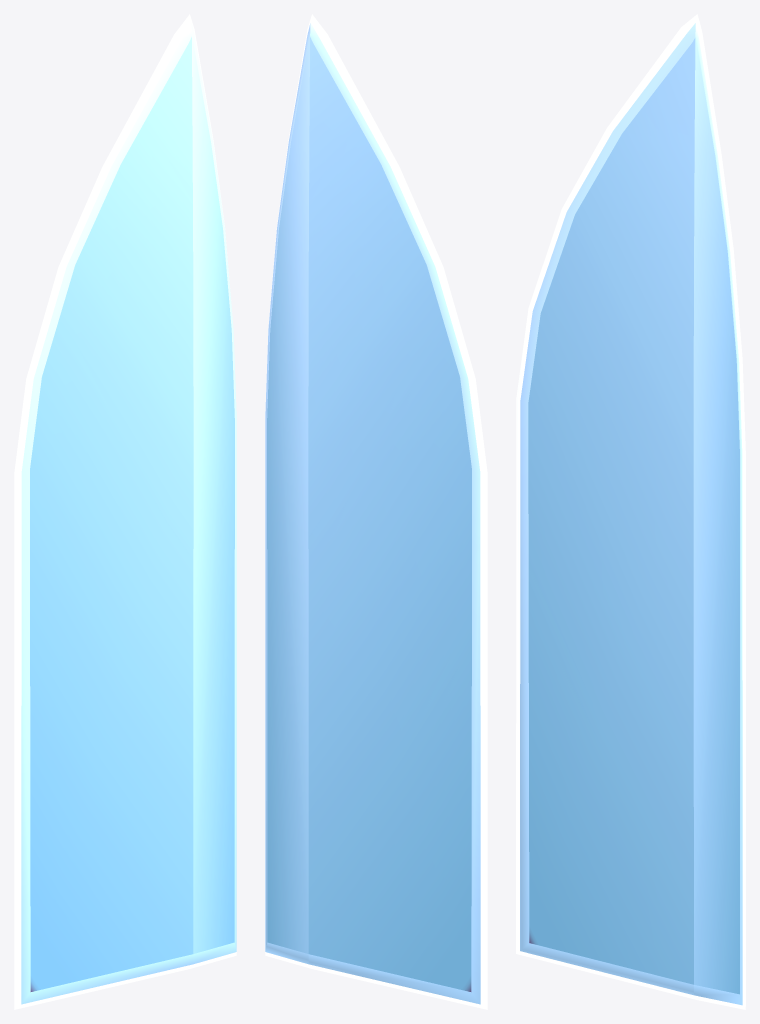
File: steel_blade (7).glb
3 views of the same model, side by side, from view 1: azimuth 30°, elevation 25°; view 2: azimuth 150°, elevation 25°; view 3: azimuth 330°, elevation 25° (orthographic). The views are drawn at different scales.
Visible parts, largest first — view 1: steel_blade_steel.056; view 2: steel_blade_steel.056; view 3: steel_blade_steel.056.
Part boxes in pixels (left/top/right/bottom): steel_blade_steel.056: left=14, top=14, right=236, bottom=1009; steel_blade_steel.056: left=265, top=14, right=487, bottom=1009; steel_blade_steel.056: left=516, top=14, right=745, bottom=1009.
Bounding box in the file's own units: 2.79 × 11.43 × 0.1594.
1 material, 1 textured.
